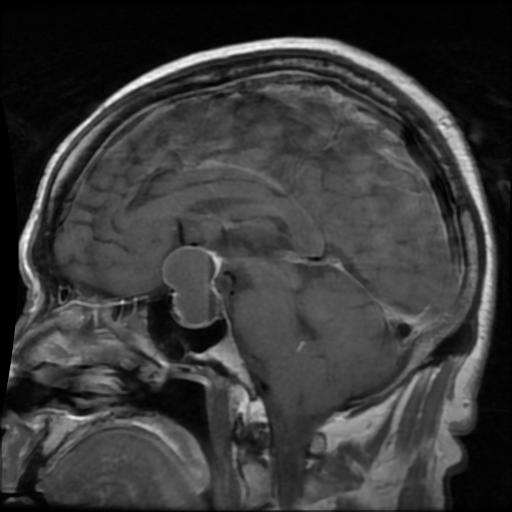Pituirity_tumour: (161, 243, 222, 325)
